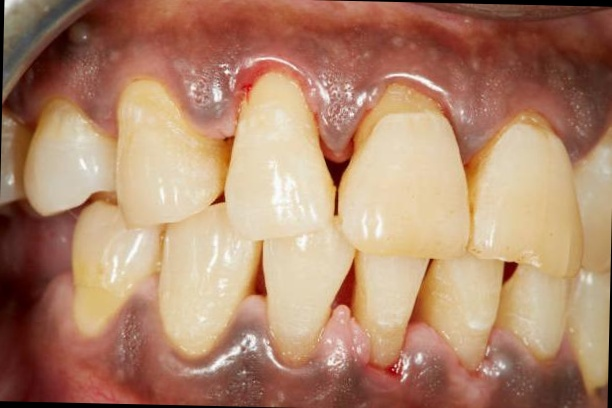Gingivitis: (430, 30, 508, 157), (301, 17, 374, 150), (163, 20, 250, 126), (544, 38, 610, 158), (101, 302, 165, 405), (497, 348, 587, 408), (222, 327, 279, 407), (320, 340, 370, 408), (406, 355, 461, 407)
